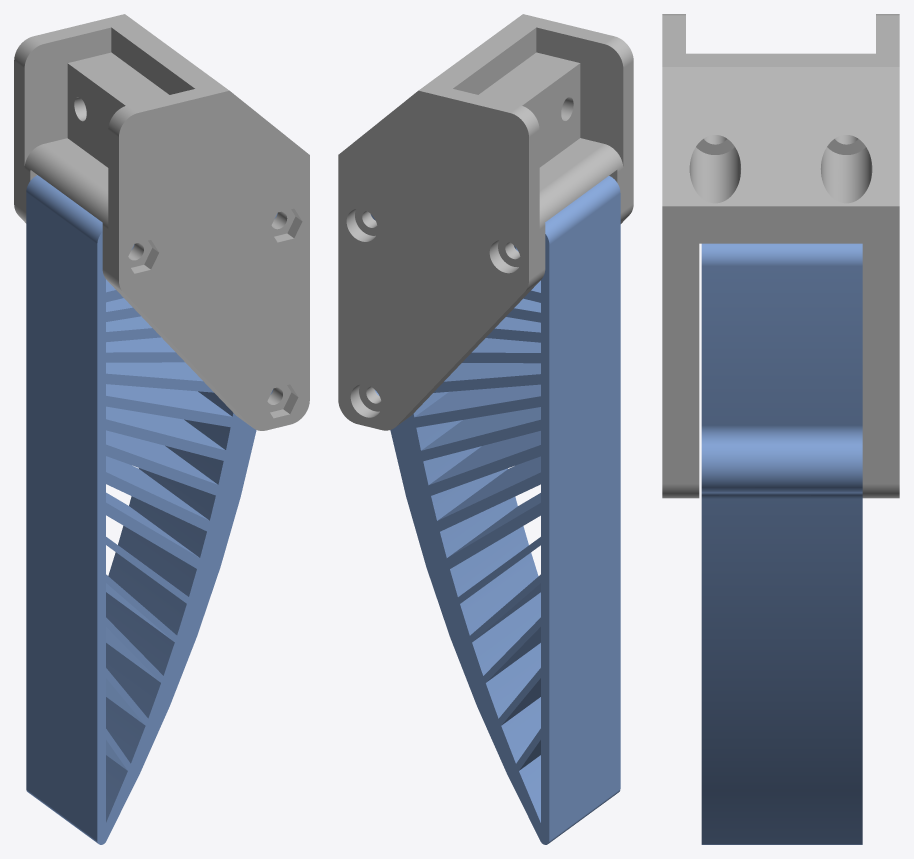
The model's file is umi_finger.glb.
The picture shows the model from 3 angles, left to right: view 1: azimuth 30°, elevation 25°; view 2: azimuth 150°, elevation 25°; view 3: azimuth 270°, elevation 25°; orthographic projection. The views are drawn at different scales.
Parts seen in each view (by area): view 1: soft_gripper_finger, finger_holder_right; view 2: soft_gripper_finger, finger_holder_right; view 3: soft_gripper_finger, finger_holder_right.
Part boxes in pixels (left/top/right/bottom): soft_gripper_finger: left=26, top=175, right=277, bottom=844; finger_holder_right: left=14, top=14, right=309, bottom=430; soft_gripper_finger: left=370, top=176, right=620, bottom=844; finger_holder_right: left=338, top=14, right=633, bottom=430; soft_gripper_finger: left=701, top=243, right=862, bottom=844; finger_holder_right: left=662, top=14, right=899, bottom=498.
Bounding box in the file's own units: 0.0409 × 0.1481 × 0.038.
